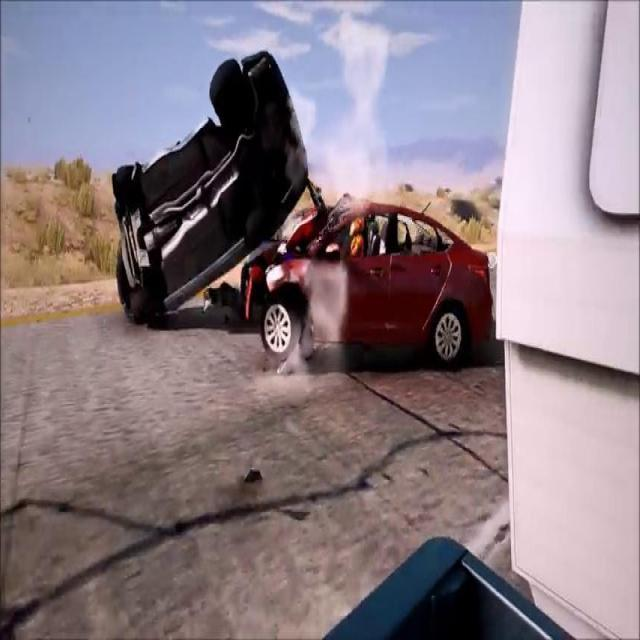accident: (107, 48, 495, 367)
